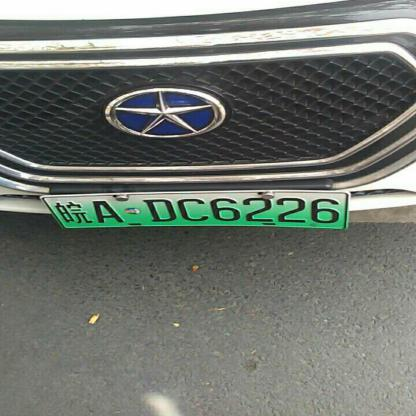lp: (42, 191, 65, 230)
